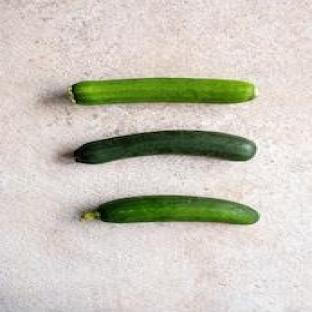Zucchini: (74, 130, 256, 164), (69, 78, 256, 105), (82, 196, 259, 224)
